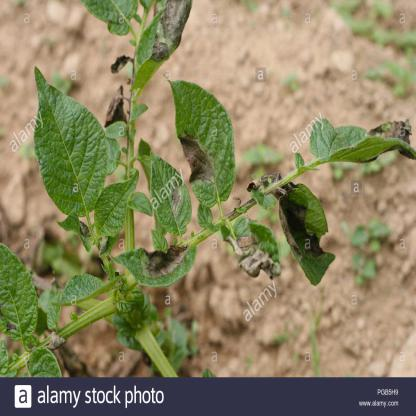potato leaf late blight: (161, 70, 233, 207), (275, 183, 336, 289), (309, 114, 416, 170), (136, 0, 194, 93), (118, 246, 193, 283)
